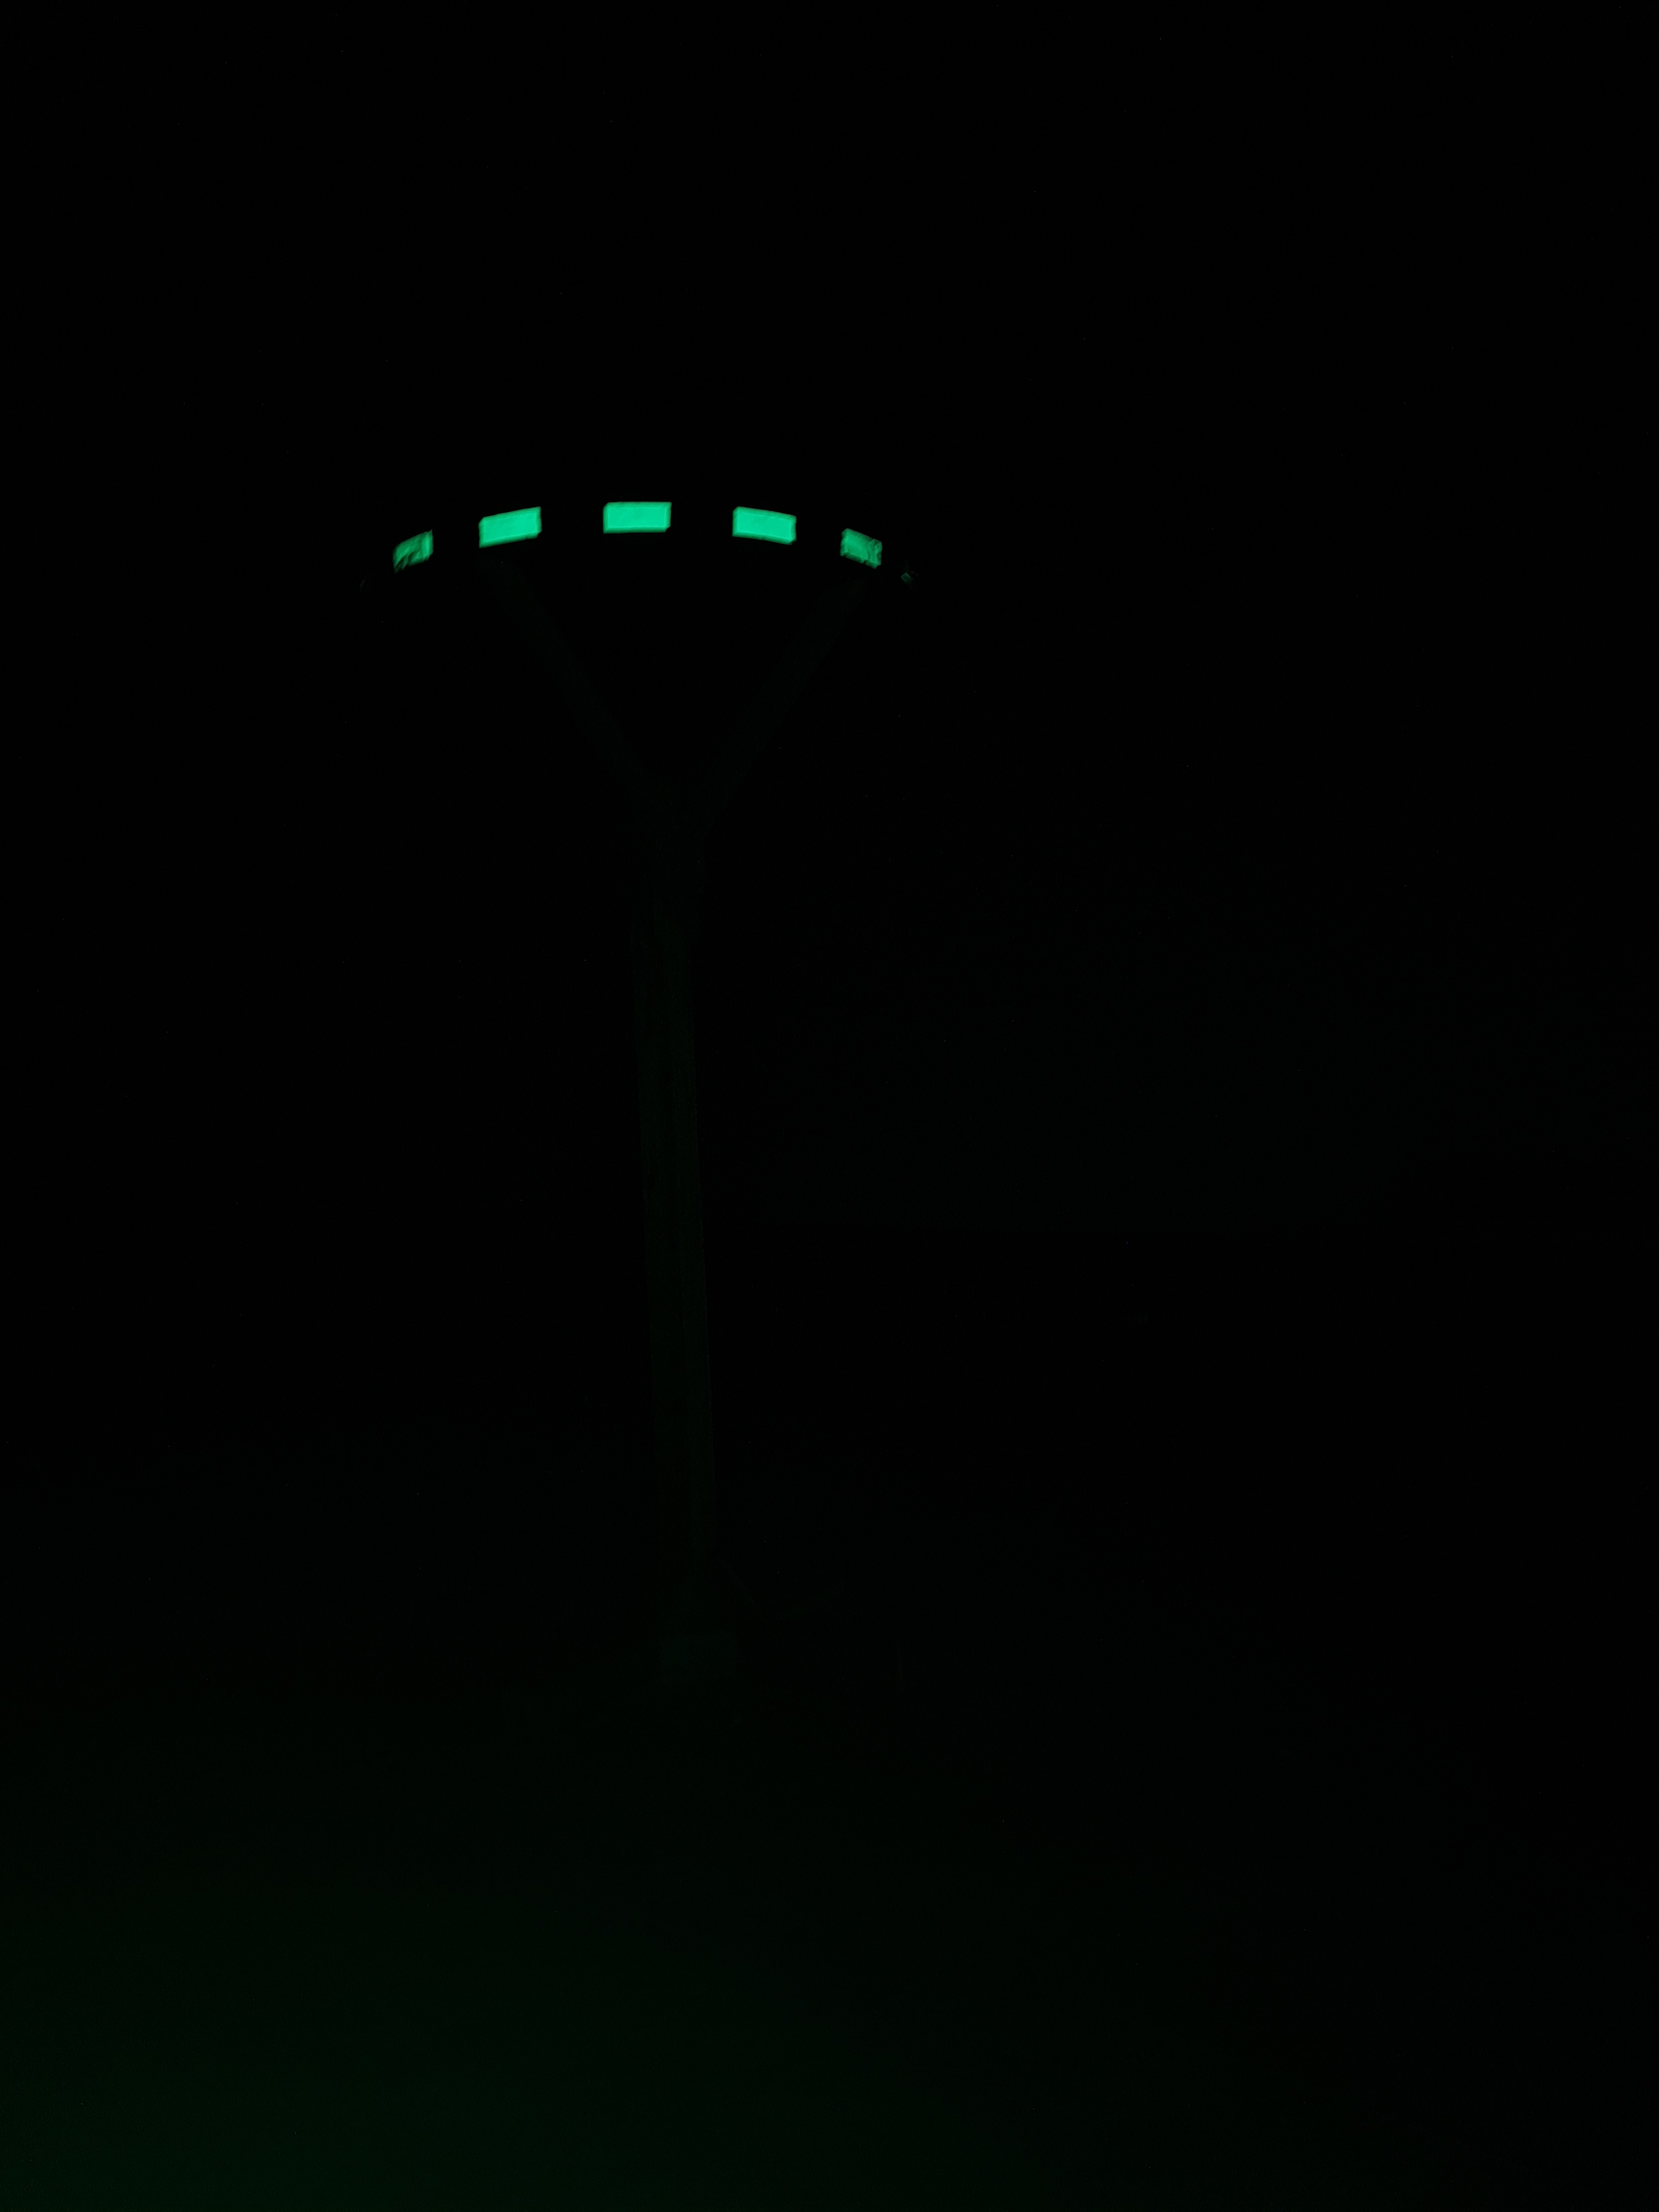hoop: (389, 491, 889, 573)
